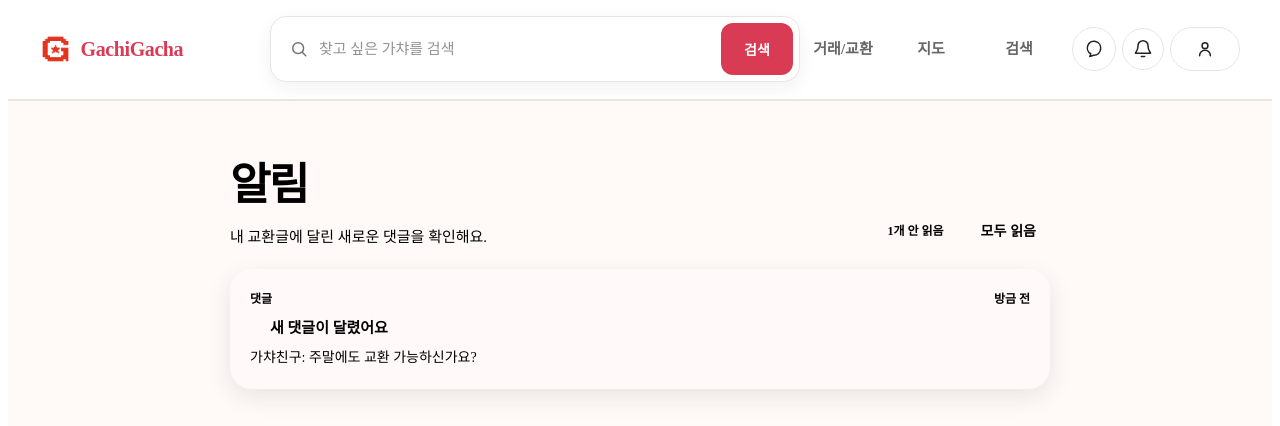
NotificationsRoute › 모두 읽음 처리하면 안 읽은 표시를 제거한다
Click the button "모두 읽음".
click(1008, 230)  # box [967,211,1050,249]
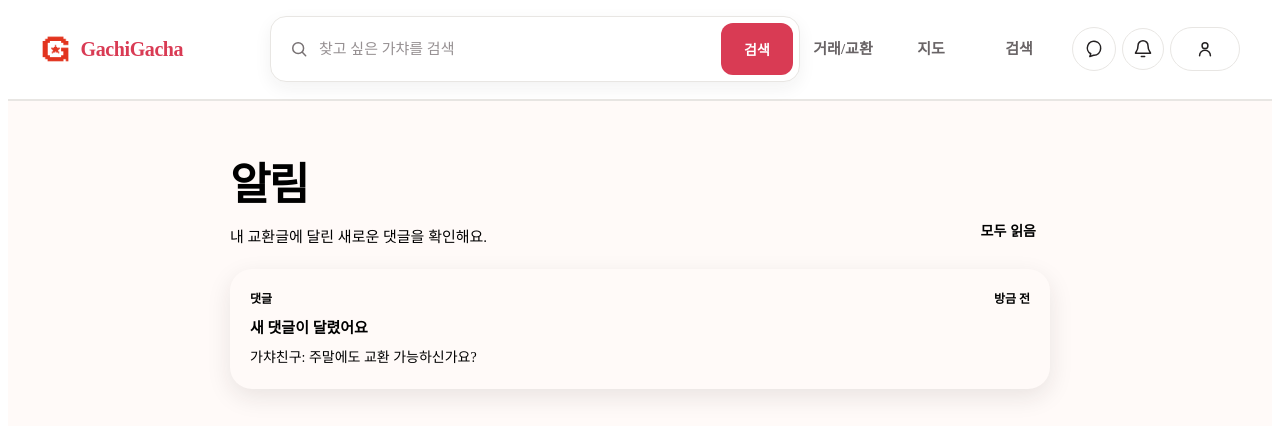
Now the text "1개 안 읽음" is gone
